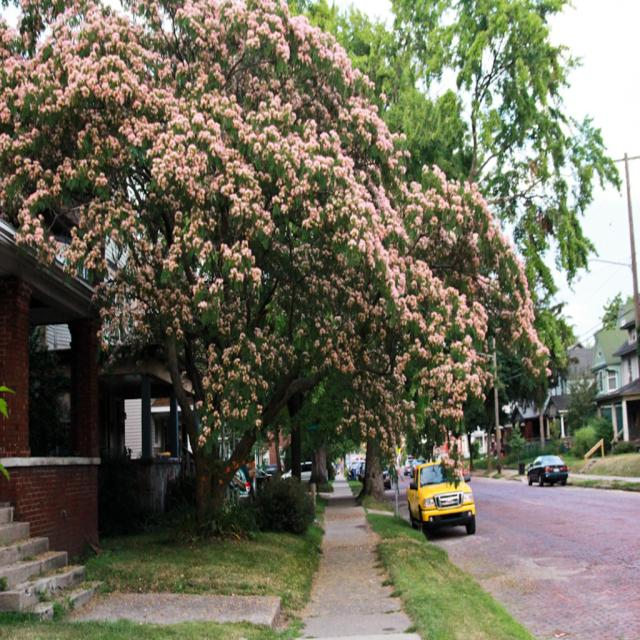car: (523, 449, 568, 488)
